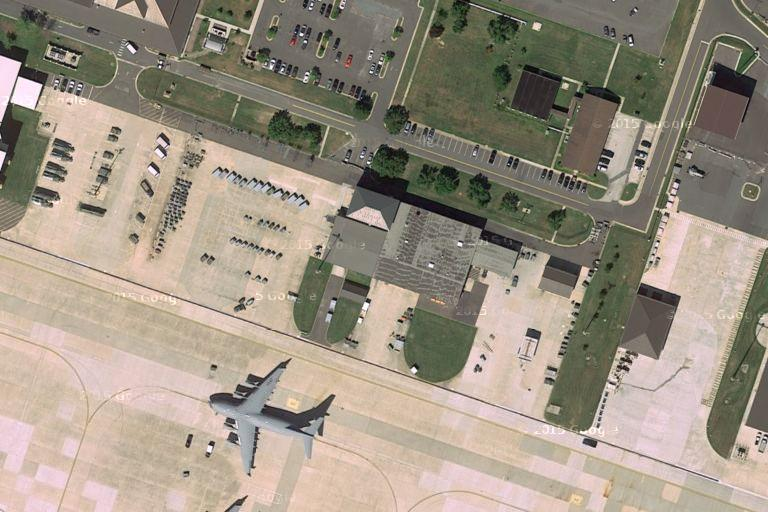C-17: (202, 362, 330, 474)
